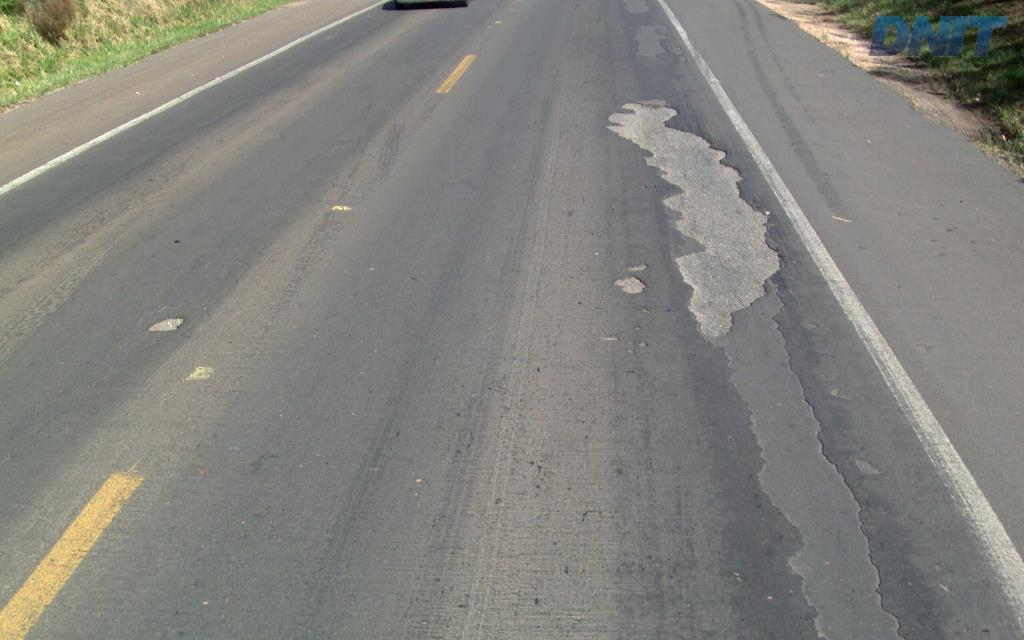pothole: (600, 97, 792, 342), (612, 276, 647, 295), (621, 259, 650, 273)
